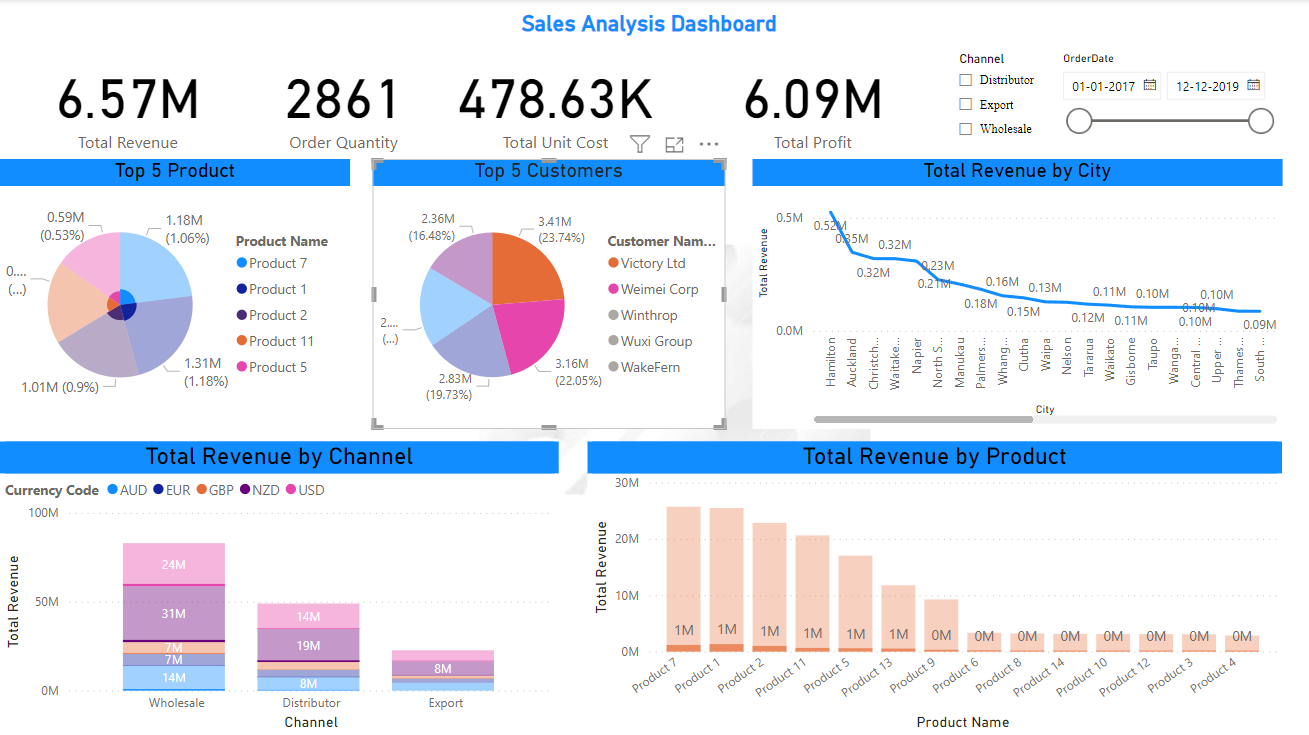

Layout of this report page (visuals, bound fields, positions):
{"tool":"powerbi","page":{"name":"Page 1","canvas":[1280,720],"ordinal":0},"visuals":[{"type":"columnChart","title":"Total Revenue by Product","fields":{"Y":["Sum(Sales_Data.Total Revenue)"],"Category":["Products_Data.Product Name"]},"box":[574.9,432.6,679.1,287.4],"z":0},{"type":"columnChart","title":"Total Revenue by Channel","fields":{"Y":["Sum(Sales_Data.Total Revenue)"],"Category":["Sales_Data.Channel"],"Series":["Sales_Data.Currency Code"]},"box":[0,432.7,546.4,287.3],"z":1000},{"type":"pieChart","title":"Top 5 Product","fields":{"Category":["Products_Data.Product Name"],"Y":["Sum(Sales_Data.Total Revenue)"]},"box":[0,156.5,342.3,264],"z":2000},{"type":"lineChart","title":"Total Revenue by City","fields":{"Y":["Sum(Sales_Data.Total Revenue)"],"Category":["Regions_Table.City"]},"box":[735.9,156.5,518.3,264],"z":3000},{"type":"card","fields":{"Values":["Sum(Sales_Data.Total Revenue)"]},"box":[0,46.5,250.8,109.9],"z":4000},{"type":"card","fields":{"Values":["Sum(Sales_Data.Order Quantity)"]},"box":[250.6,46.5,171.1,110],"z":5000},{"type":"textbox","box":[0,5.6,1163.8,40.9],"z":6000},{"type":"card","fields":{"Values":["Sum(Sales_Data.Total Unit Cost)"]},"box":[421.7,46.5,243.3,110],"z":7000},{"type":"card","fields":{"Values":["Sum(Sales_Data.Total Profit)"]},"box":[665,46.5,260.4,110],"z":8000},{"type":"slicer","fields":{"Values":["Sales_Data.Channel"]},"box":[925.4,46.5,127.1,107.6],"z":9000},{"type":"slicer","fields":{"Values":["Sales_Data.OrderDate"]},"box":[1026.8,46.5,227.4,110],"z":10000},{"type":"pieChart","title":"Top 5 Customers","fields":{"Category":["Customer_Data.Customer Names"],"Y":["Sum(Sales_Data.Total Revenue)"]},"box":[364.3,156.5,344.7,264],"z":11000}]}

Visuals, with their boxes in screenshot pixels (x1, y1, x2, y2), scaled from the page's 1280x720 canvas onto the 1309x735 screenshot:
"Total Revenue by Product" columnChart: select_region(588, 442, 1282, 734)
"Total Revenue by Channel" columnChart: select_region(0, 442, 559, 734)
"Top 5 Product" pieChart: select_region(0, 160, 350, 429)
"Total Revenue by City" lineChart: select_region(753, 160, 1283, 429)
card - Sum(Sales_Data.Total Revenue): select_region(0, 47, 256, 160)
card - Sum(Sales_Data.Order Quantity): select_region(256, 47, 431, 160)
textbox: select_region(0, 6, 1190, 47)
card - Sum(Sales_Data.Total Unit Cost): select_region(431, 47, 680, 160)
card - Sum(Sales_Data.Total Profit): select_region(680, 47, 946, 160)
slicer - Sales_Data.Channel: select_region(946, 47, 1076, 157)
slicer - Sales_Data.OrderDate: select_region(1050, 47, 1283, 160)
"Top 5 Customers" pieChart: select_region(373, 160, 725, 429)
